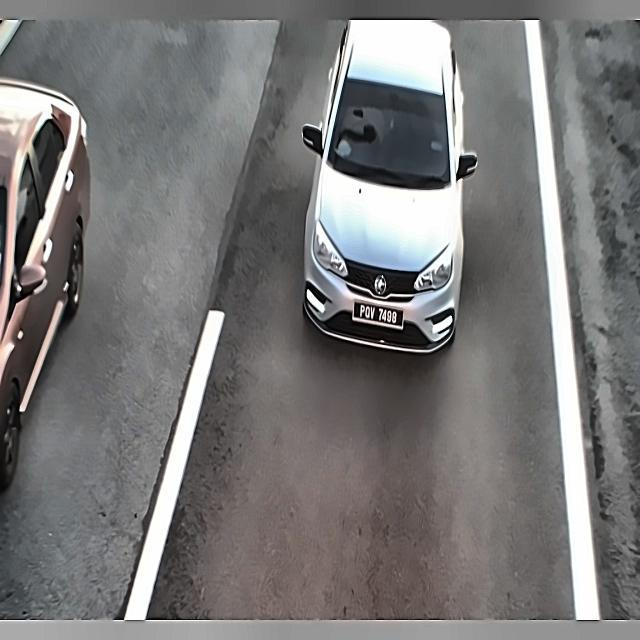car: (351, 294, 407, 333)
